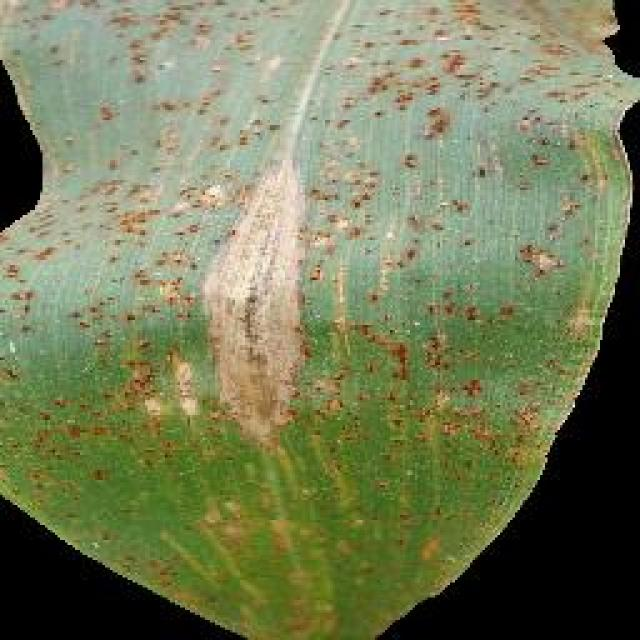Corn Common Rust: (63, 1, 503, 640)
